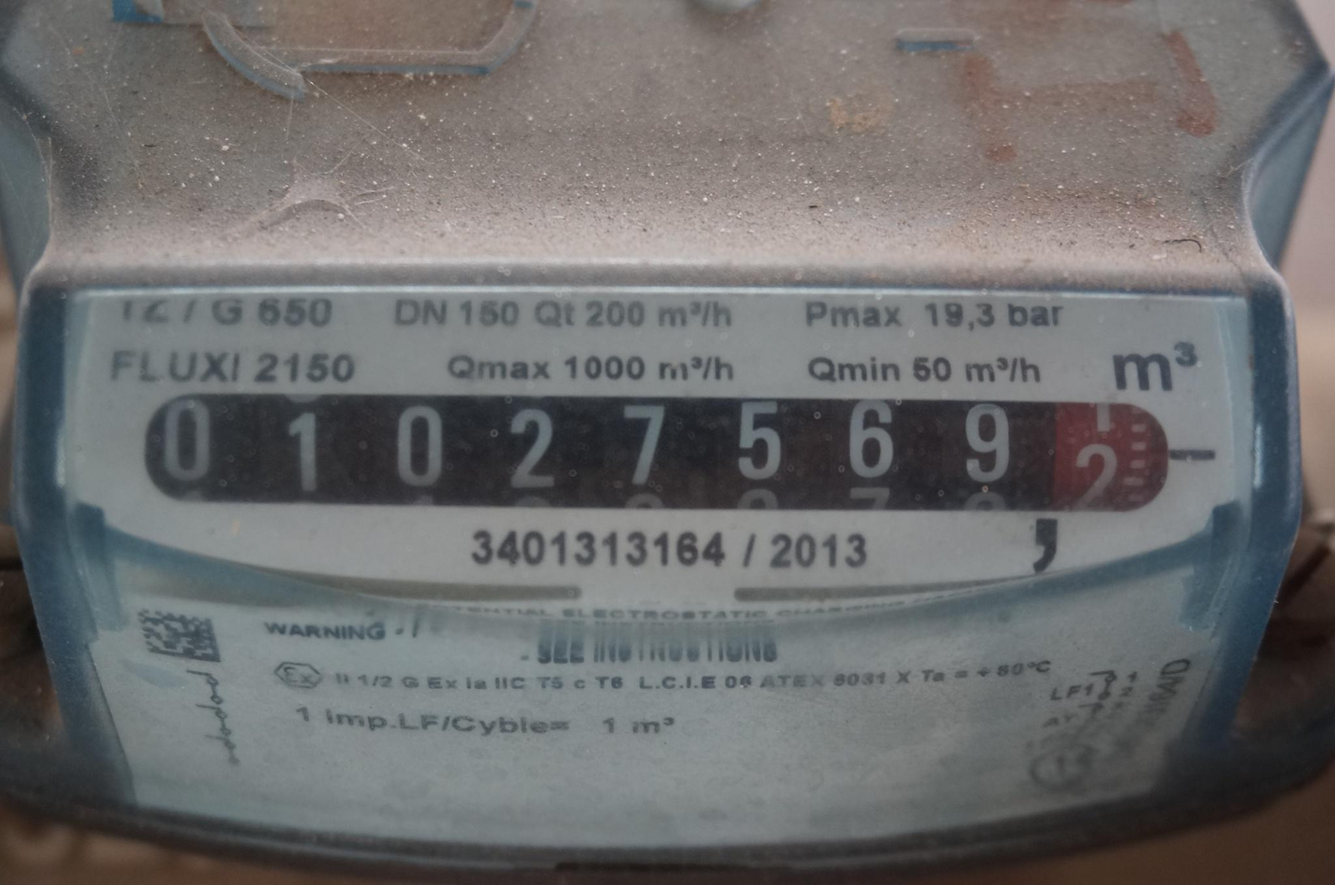analog_dial: (133, 381, 1218, 534)
